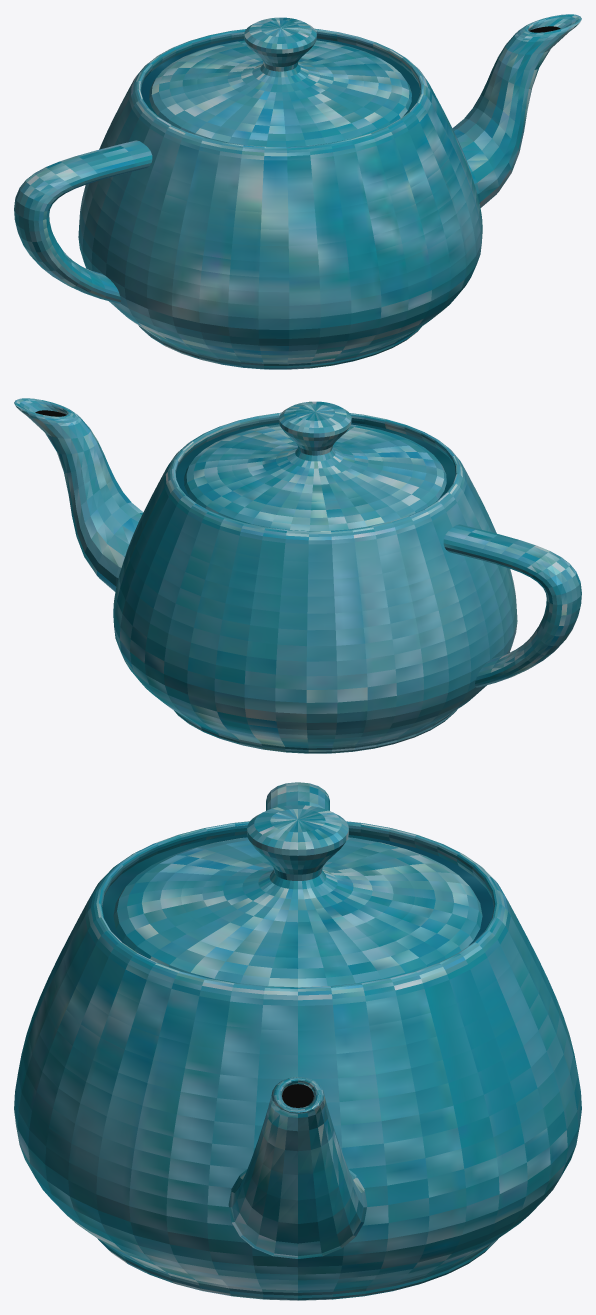
Rendered from Barium_Teapot.fbx.
3 renders of one model, top to bottom at view 1: azimuth 30°, elevation 25°; view 2: azimuth 150°, elevation 25°; view 3: azimuth 270°, elevation 25°, orthographic. The views are drawn at different scales.
Parts seen in each view (by area): view 1: Barium_Teapot-SKP-Water_Pool, Barium_Teapot-SKP-Water_Deep; view 2: Barium_Teapot-SKP-Water_Pool, Barium_Teapot-SKP-Water_Deep; view 3: Barium_Teapot-SKP-Water_Pool, Barium_Teapot-SKP-Water_Deep.
Boxes of the visible parts, <box> form: Barium_Teapot-SKP-Water_Pool: <box>14,14,581,369</box>; Barium_Teapot-SKP-Water_Deep: <box>141,38,419,117</box>; Barium_Teapot-SKP-Water_Pool: <box>14,398,581,753</box>; Barium_Teapot-SKP-Water_Deep: <box>176,422,455,501</box>; Barium_Teapot-SKP-Water_Pool: <box>14,782,581,1300</box>; Barium_Teapot-SKP-Water_Deep: <box>102,834,493,945</box>.
Size of the model in its own units: 0.6009 by 0.2942 by 0.3736.
